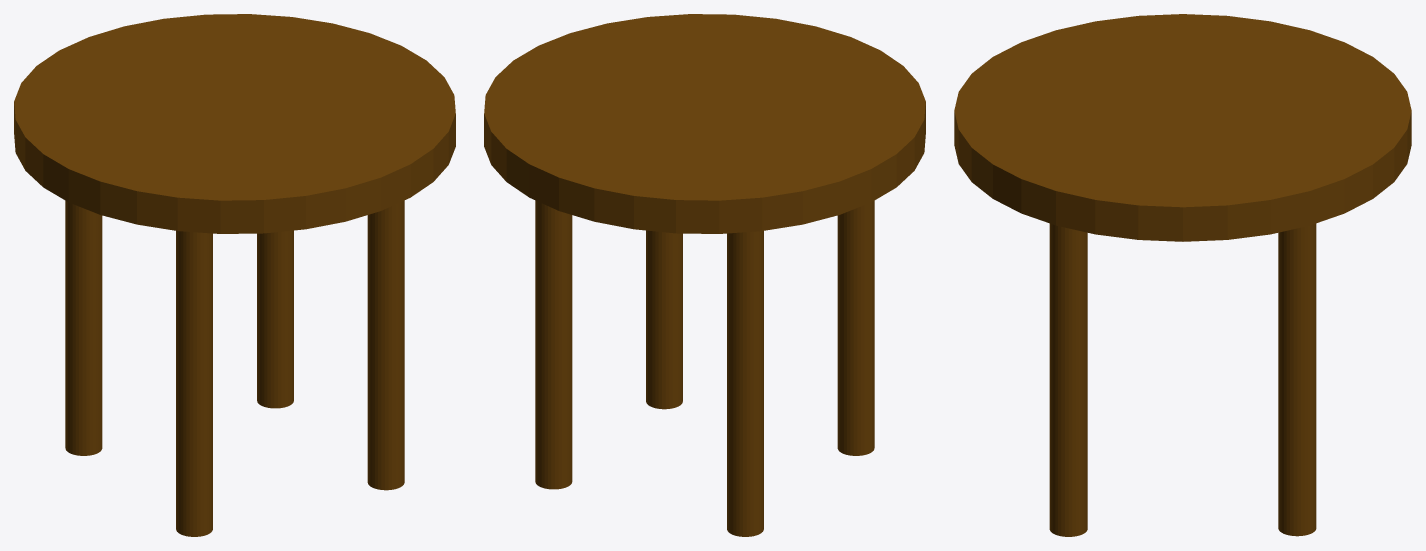
The model's file is Table1.glb.
3 views of the same model, side by side, from view 1: azimuth 30°, elevation 25°; view 2: azimuth 150°, elevation 25°; view 3: azimuth 270°, elevation 25° (orthographic). The views are drawn at different scales.
Visible parts, largest first — view 1: Cylinder, Cylinder.004, Cylinder.002, Cylinder.003, Cylinder.001; view 2: Cylinder, Cylinder.003, Cylinder.001, Cylinder.004, Cylinder.002; view 3: Cylinder, Cylinder.002, Cylinder.001.
Part boxes in pixels (x1,y1,x2,y2): Cylinder: (14, 14, 455, 233); Cylinder.004: (176, 231, 212, 536); Cylinder.002: (367, 200, 404, 490); Cylinder.003: (65, 200, 102, 455); Cylinder.001: (257, 230, 293, 408); Cylinder: (484, 14, 925, 233); Cylinder.003: (727, 231, 763, 536); Cylinder.001: (535, 200, 572, 489); Cylinder.004: (837, 200, 874, 455); Cylinder.002: (646, 230, 682, 409); Cylinder: (954, 14, 1411, 241); Cylinder.002: (1049, 223, 1087, 536); Cylinder.001: (1278, 223, 1316, 536).
Size of the model in its own units: 2.4 by 2.14 by 2.4.
